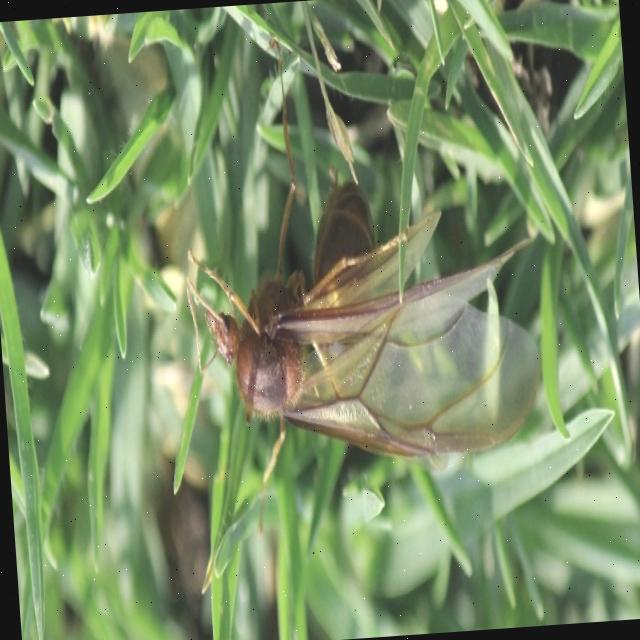Alive-Male-Alate: (168, 17, 554, 545)
